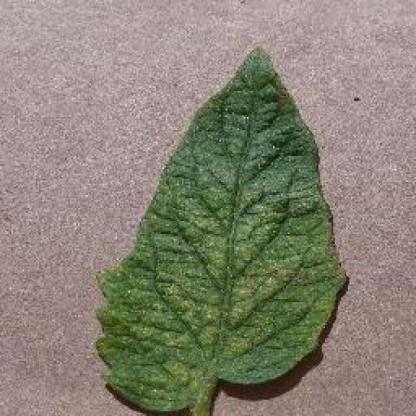Tomato_Spider_Mites: (98, 46, 344, 412)
